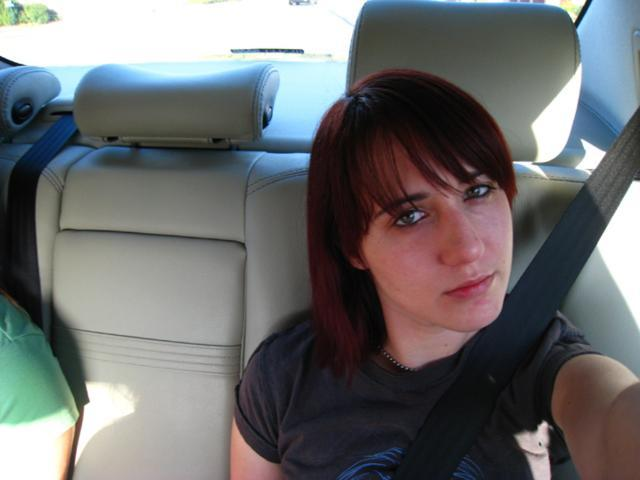SafeDriving: (384, 192, 442, 236), (456, 167, 504, 211)
Seatbelt: (391, 105, 639, 479), (0, 106, 78, 330)
